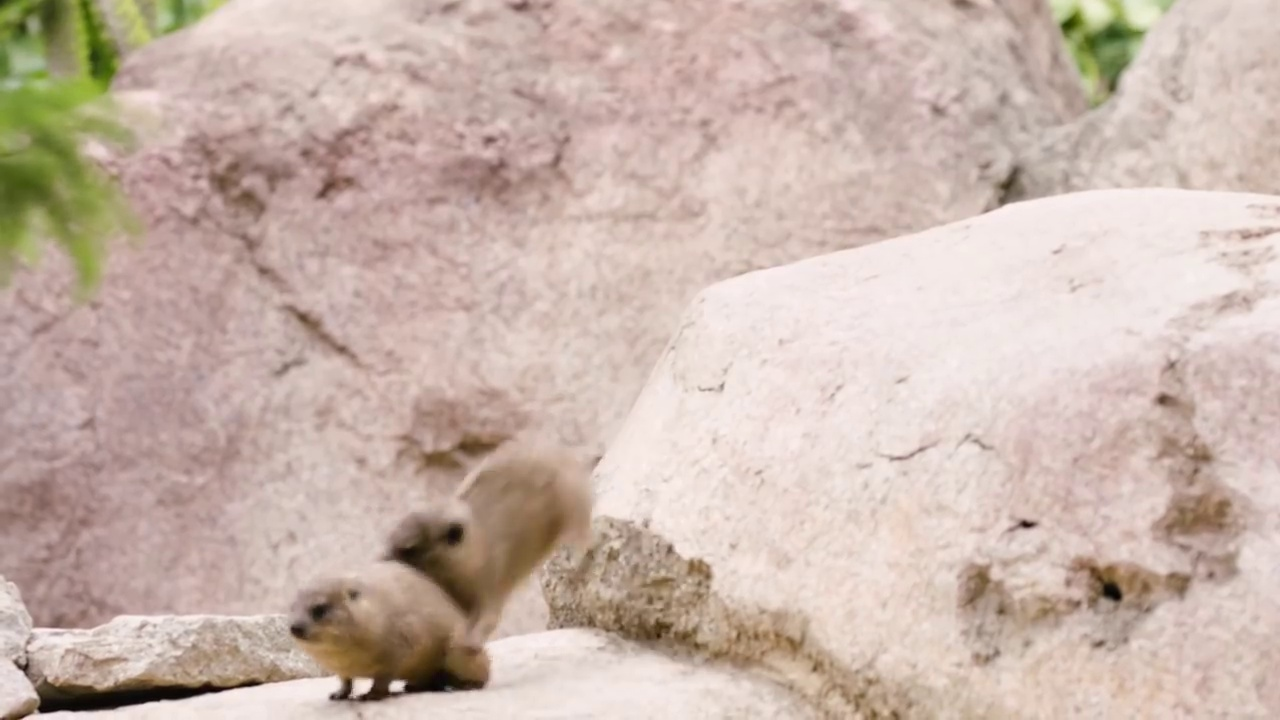Rock Hyrex: (378, 434, 608, 633), (286, 566, 498, 700)
